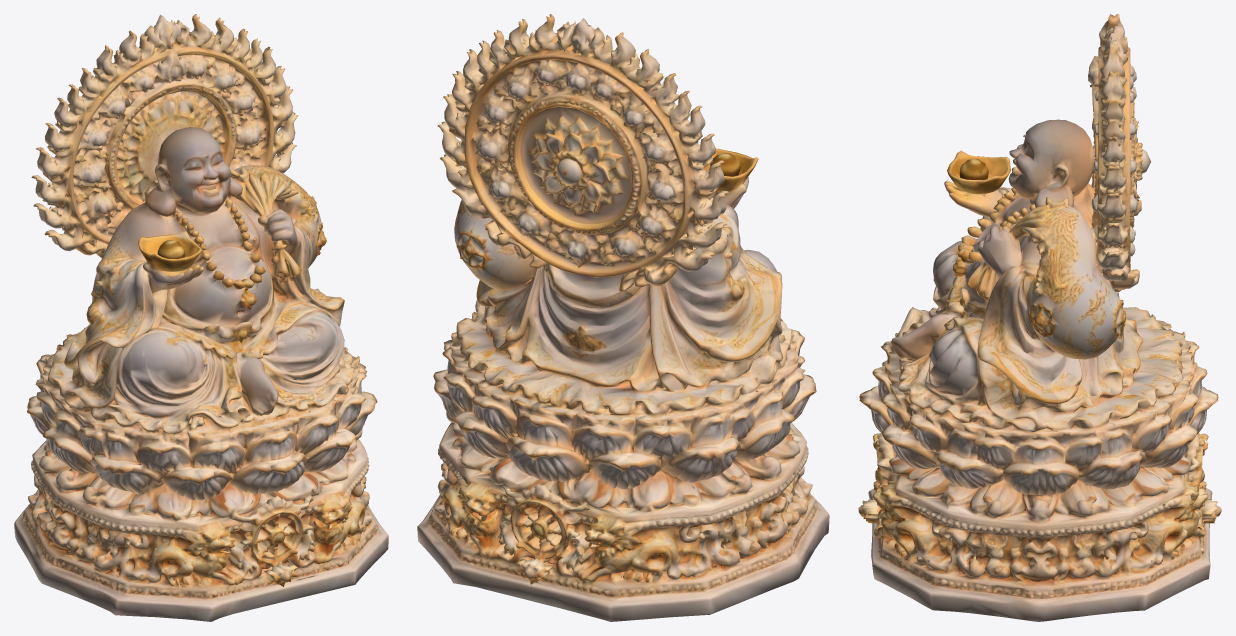
3 views of the same model, side by side, from view 1: azimuth 30°, elevation 25°; view 2: azimuth 150°, elevation 25°; view 3: azimuth 270°, elevation 25° (orthographic). The views are drawn at different scales.
Visible parts, largest first — view 1: owner-collection20-01; view 2: owner-collection20-01; view 3: owner-collection20-01.
Boxes of the visible parts, x1,y1,x2,y2 form: owner-collection20-01: [14, 14, 388, 621]; owner-collection20-01: [417, 14, 829, 621]; owner-collection20-01: [858, 14, 1221, 621].
Bounding box in the file's own units: 0.6633 × 1 × 0.6371.
Materials: 1 (1 with a texture image).
